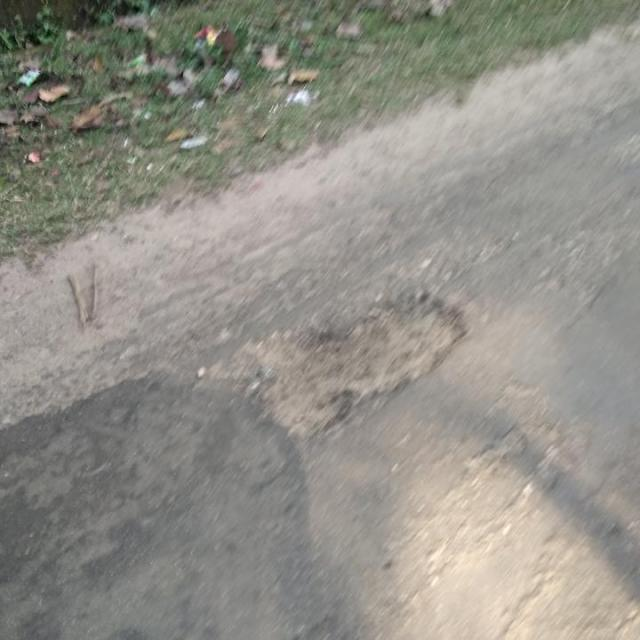pothole: (252, 288, 472, 436)
